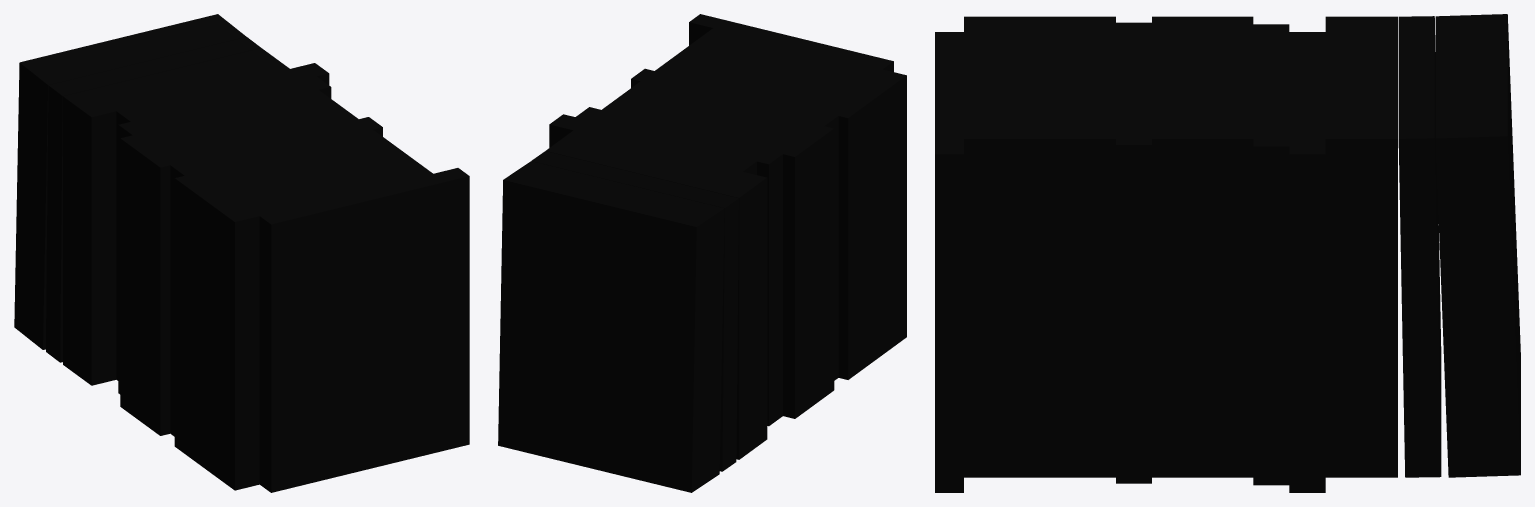
3 views of the same model, side by side, from view 1: azimuth 30°, elevation 25°; view 2: azimuth 150°, elevation 25°; view 3: azimuth 270°, elevation 25° (orthographic). The views are drawn at different scales.
Visible parts, largest first — view 1: Joint_0_Object_0; view 2: Joint_0_Object_0; view 3: Joint_0_Object_0.
Boxes of the visible parts, box(x1,y1,x2,y2) form: Joint_0_Object_0: box(14, 14, 469, 492); Joint_0_Object_0: box(498, 14, 906, 492); Joint_0_Object_0: box(935, 14, 1520, 492).
Bounding box in the file's own units: 450 × 521 × 810.
Materials: 1 (1 with a texture image).
